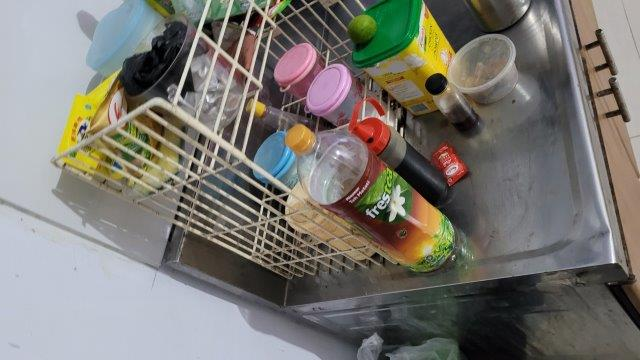botolplastik: (286, 124, 457, 275)
